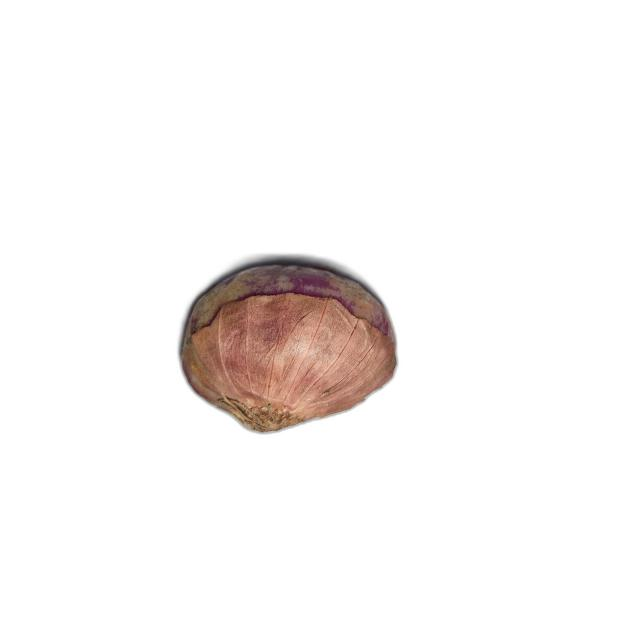onion: (180, 263, 398, 433)
